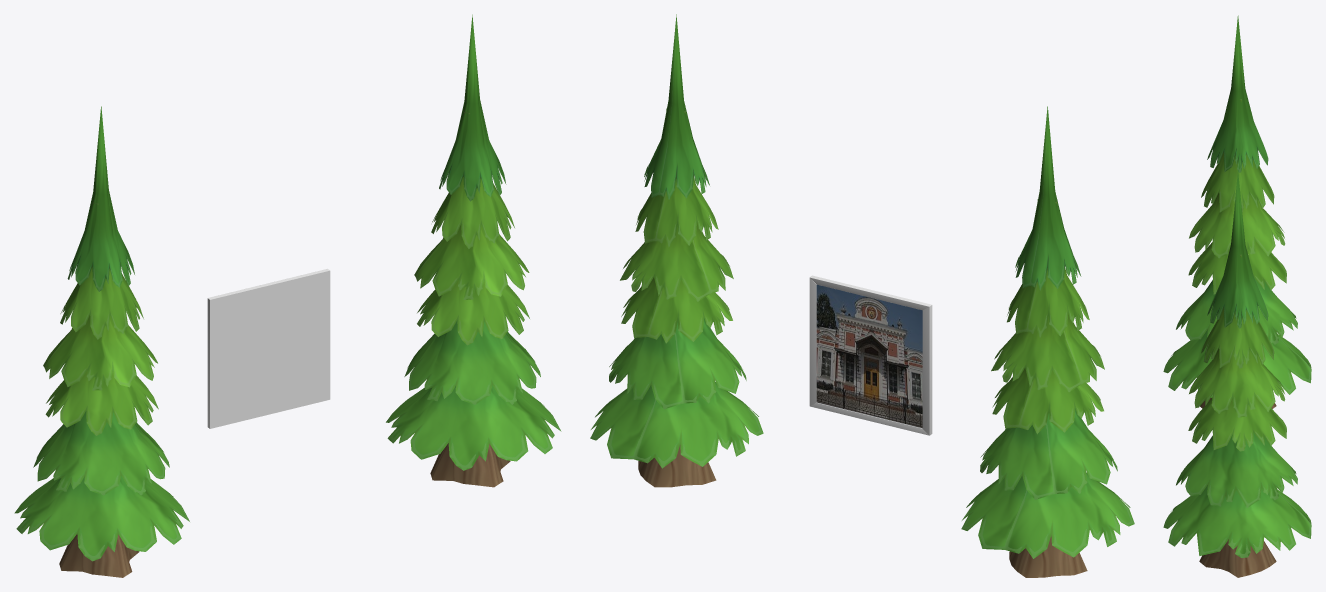
Rendered from new_frame_model.glb.
3 renders of one model, left to right at view 1: azimuth 30°, elevation 25°; view 2: azimuth 150°, elevation 25°; view 3: azimuth 270°, elevation 25°, orthographic. The views are drawn at different scales.
Parts seen in each view (by area): view 1: tree_low.001_StylizedTree_0.001, tree_low.001, Box046; view 2: tree_low.001, tree_low.001_StylizedTree_0.001, Plane, Box046; view 3: tree_low.001_StylizedTree_0.001, tree_low.001.
Boxes of the visible parts, x1,y1,x2,y2 form: tree_low.001_StylizedTree_0.001: (386,14,561,487); tree_low.001: (14,106,189,577); Box046: (207,269,330,428); tree_low.001: (961,106,1134,577); tree_low.001_StylizedTree_0.001: (590,14,763,487); Plane: (816,284,922,428); Box046: (809,275,932,435); tree_low.001_StylizedTree_0.001: (1163,171,1311,577); tree_low.001: (1163,15,1311,408).
Bounding box in the file's own units: 9.9 × 8.3 × 2.84.
Materials: 7 (5 with a texture image).
